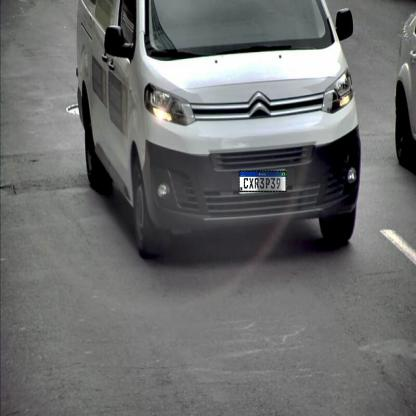PlacaM: (238, 171, 286, 192)
